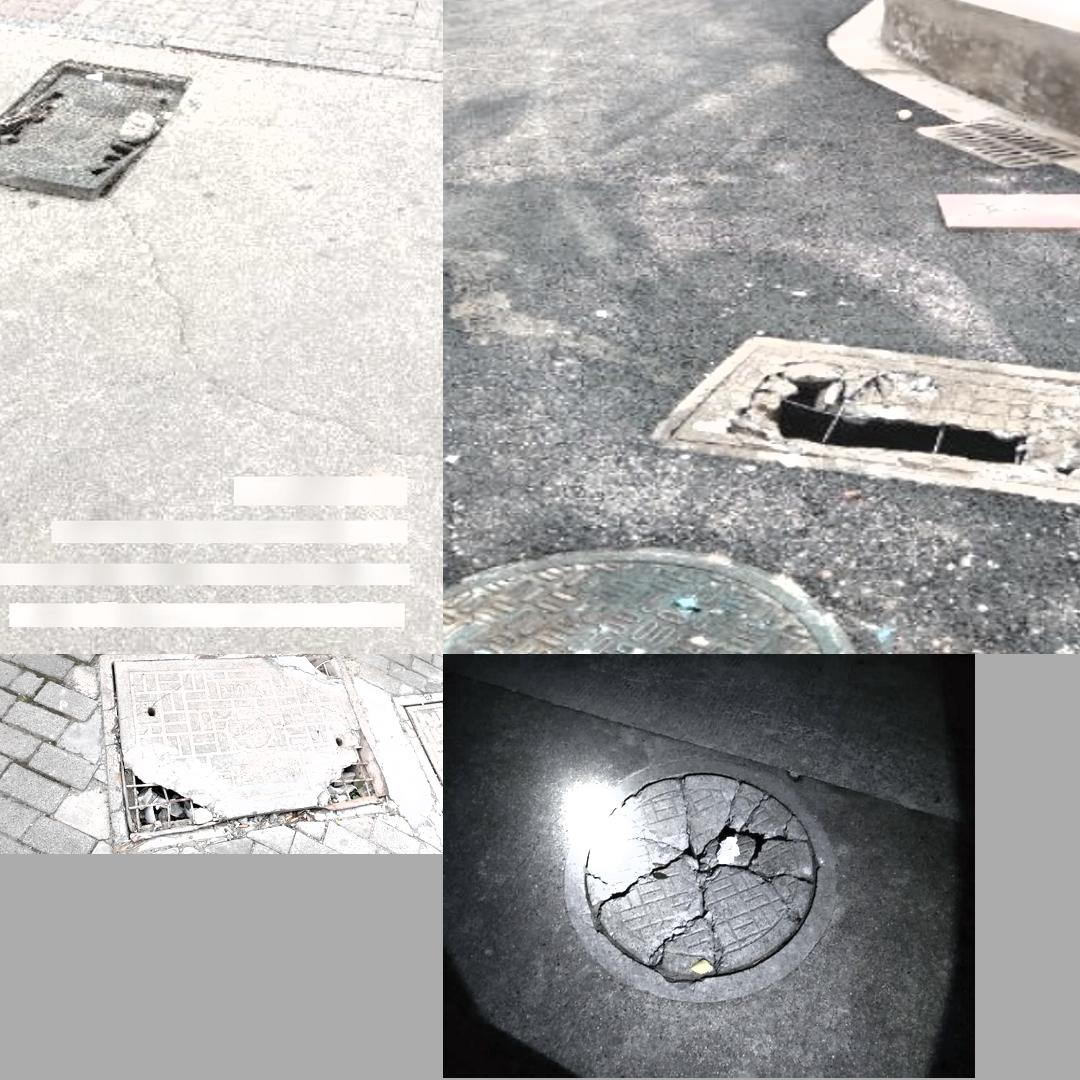broke: (650, 333, 1080, 511), (553, 763, 844, 993), (114, 655, 378, 838), (0, 59, 193, 198)
good: (443, 549, 860, 650)
